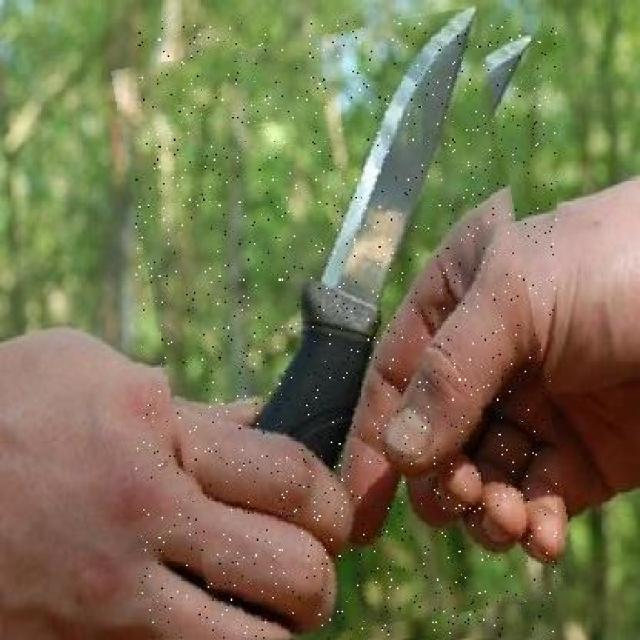knife: (135, 20, 557, 638)
